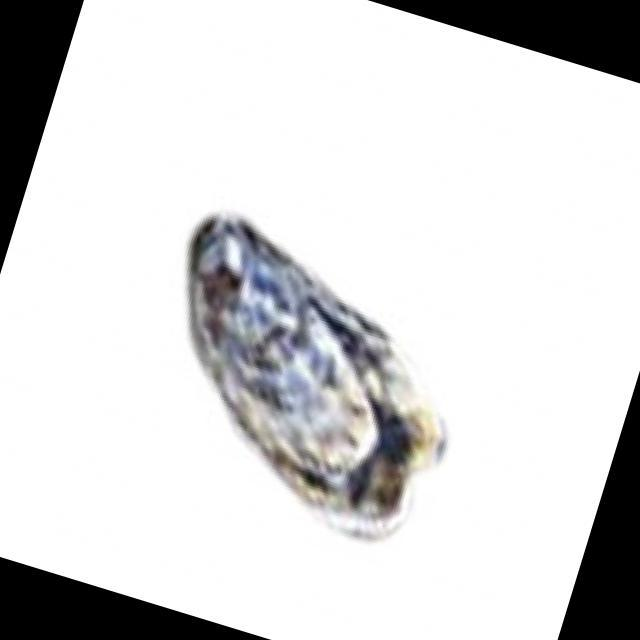Oyster- Indeterminate: (186, 212, 449, 544)
